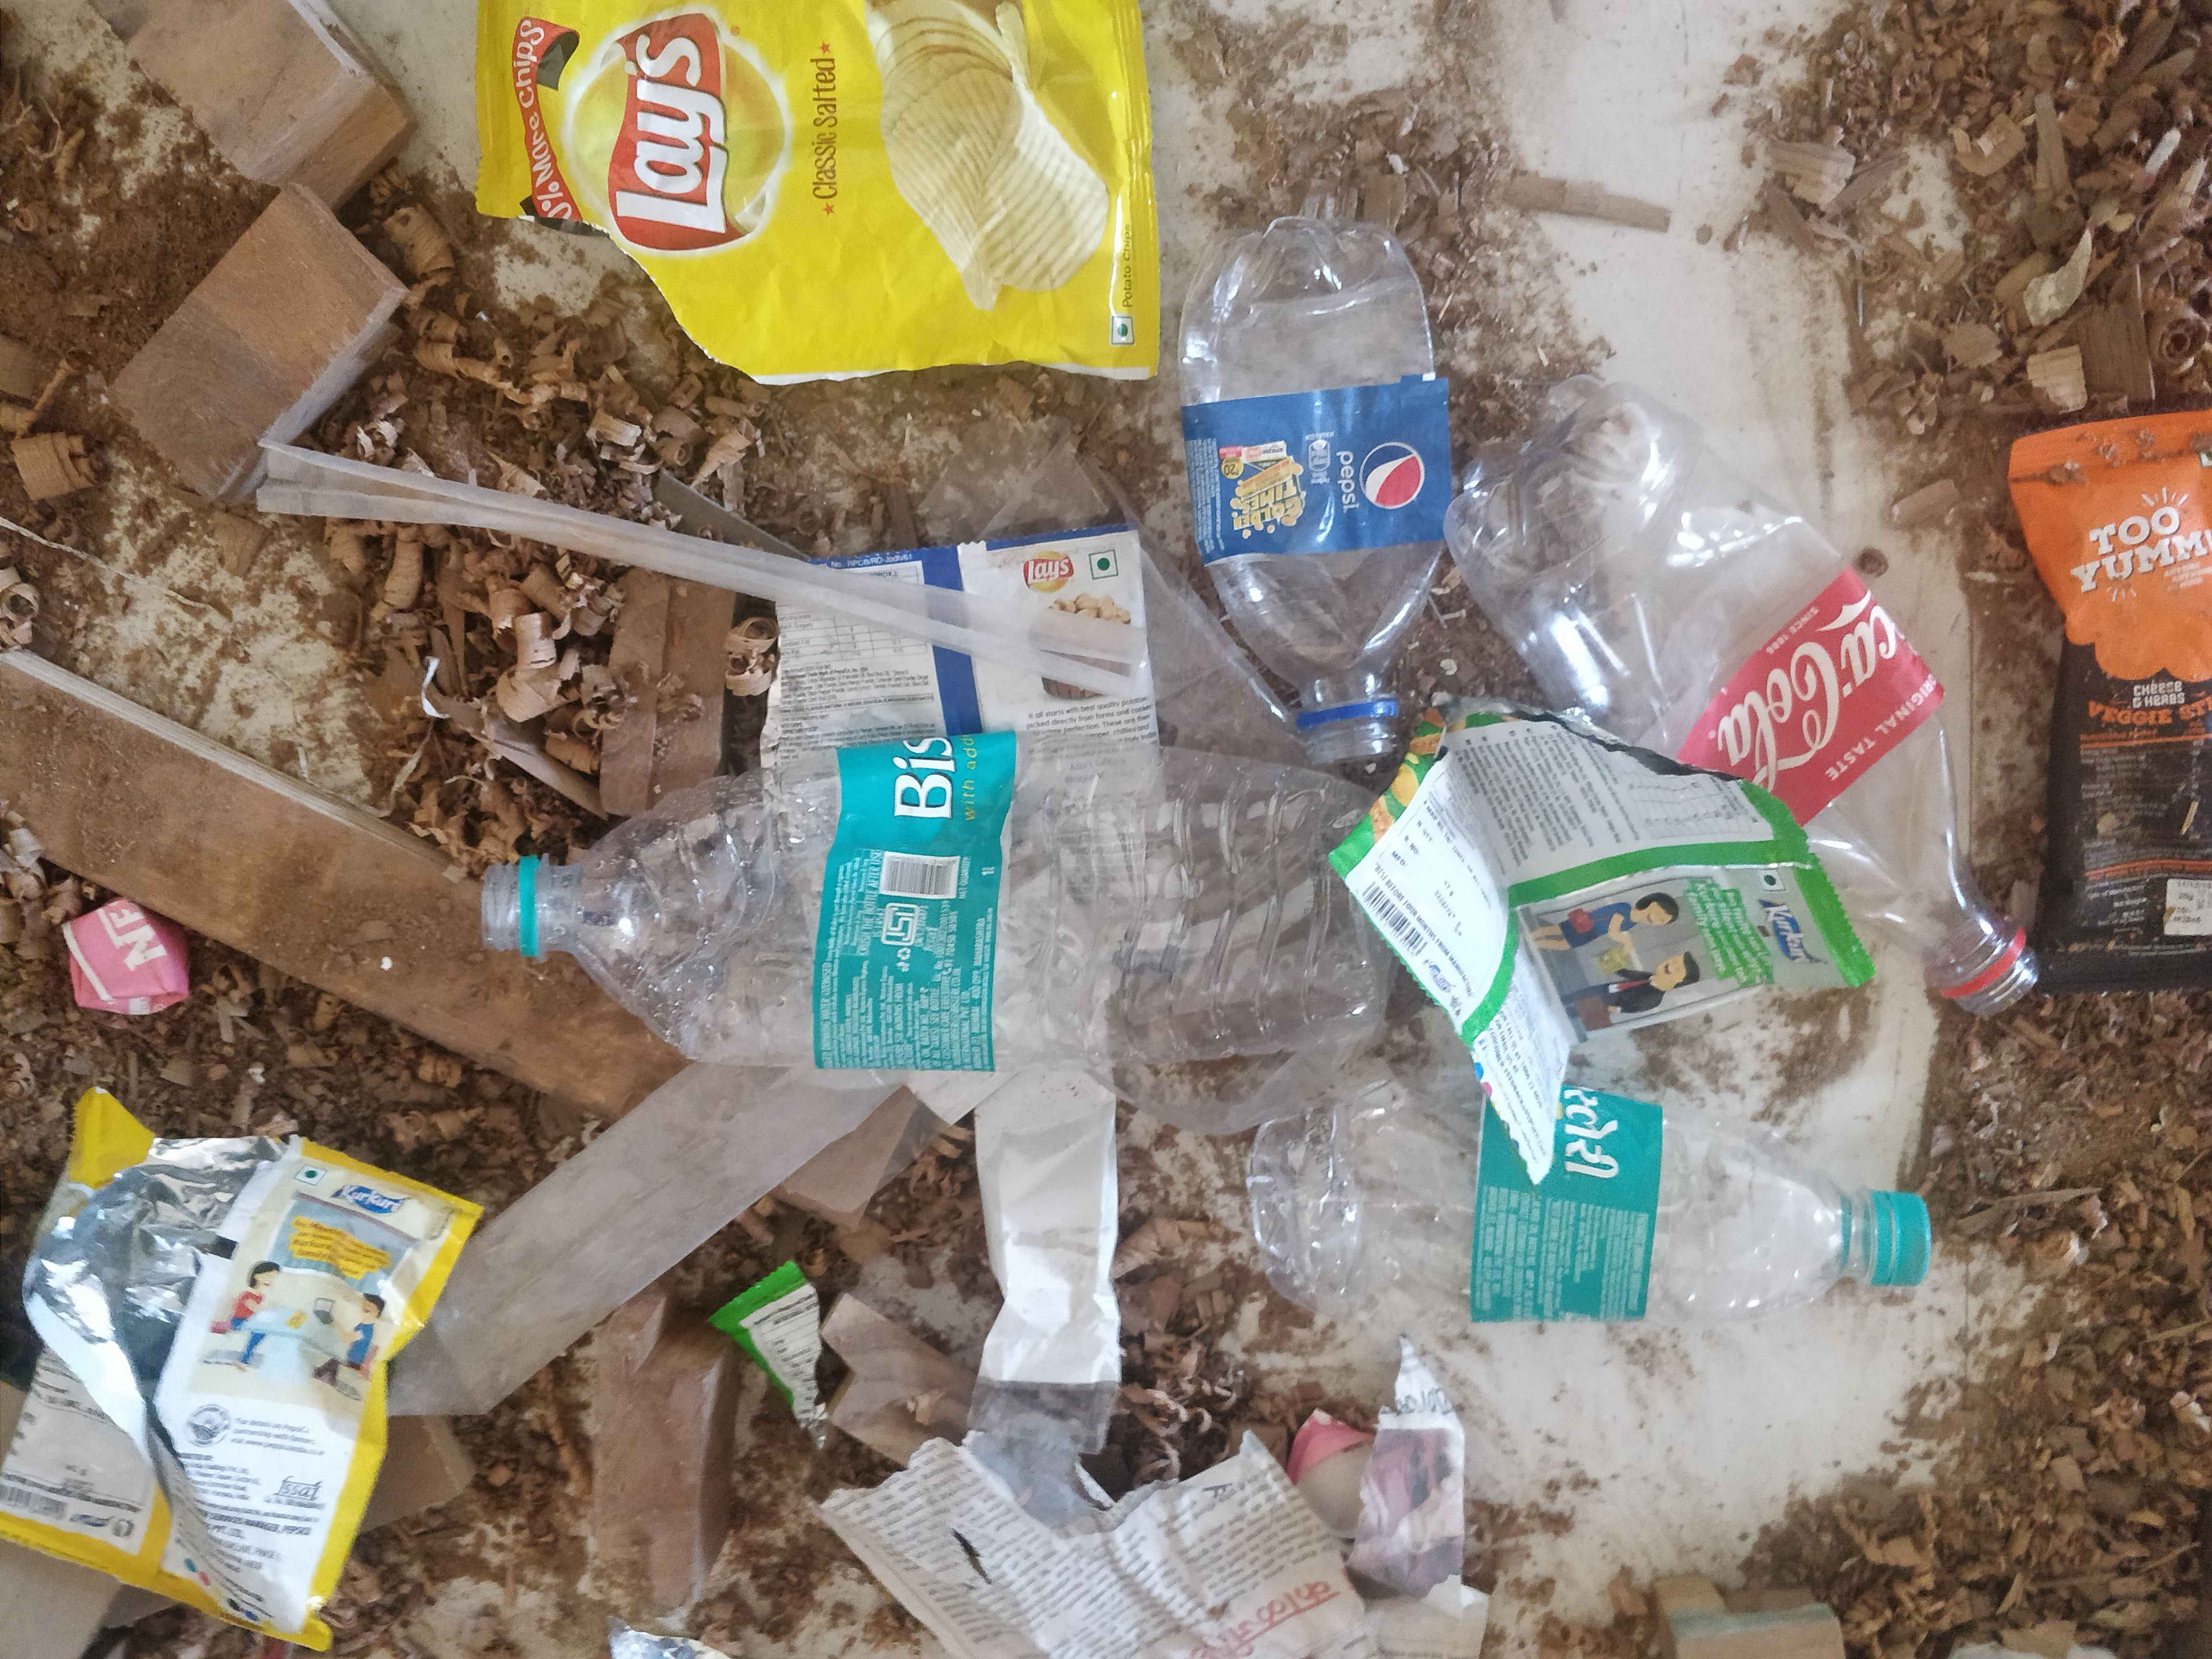Bisleri: (855, 730, 984, 1066), (1522, 1073, 1651, 1295)
Coca-Cola: (1717, 606, 1914, 775)
Lays: (554, 0, 859, 260), (1007, 545, 1085, 603)
kurkure: (1735, 873, 1836, 995), (317, 1164, 428, 1234)
pepsi: (1292, 396, 1447, 528)
tooyumm: (2067, 465, 2212, 634)
